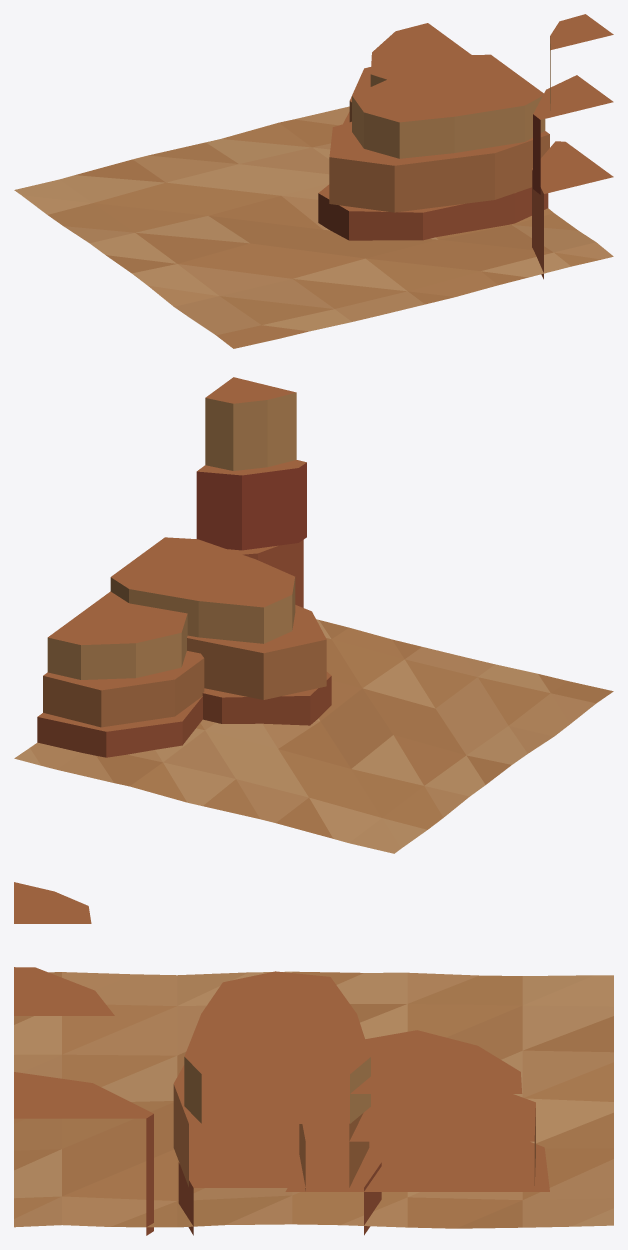
3 renders of one model, top to bottom at view 1: azimuth 30°, elevation 25°; view 2: azimuth 150°, elevation 25°; view 3: azimuth 270°, elevation 25°, orthographic. The views are drawn at different scales.
Parts seen in each view (by area): view 1: baked; view 2: baked; view 3: baked.
Part boxes in pixels (x1,y1,x2,y2): baked: (14,14,613,348); baked: (14,377,613,853); baked: (14,882,613,1235).
Size of the model in its own units: 62.5 by 35.84 by 62.5.
